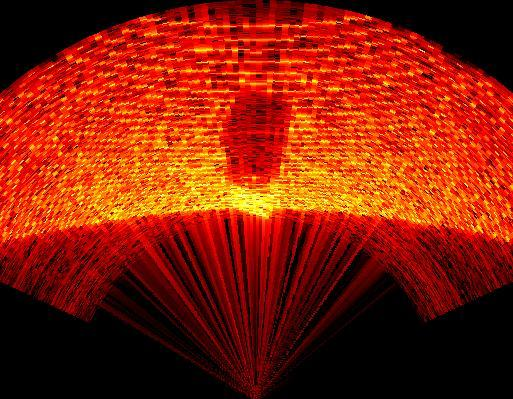box_crate: (216, 82, 300, 192)
